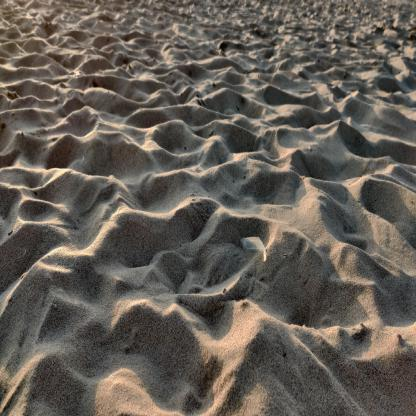Plastic film: (240, 237, 266, 262)
